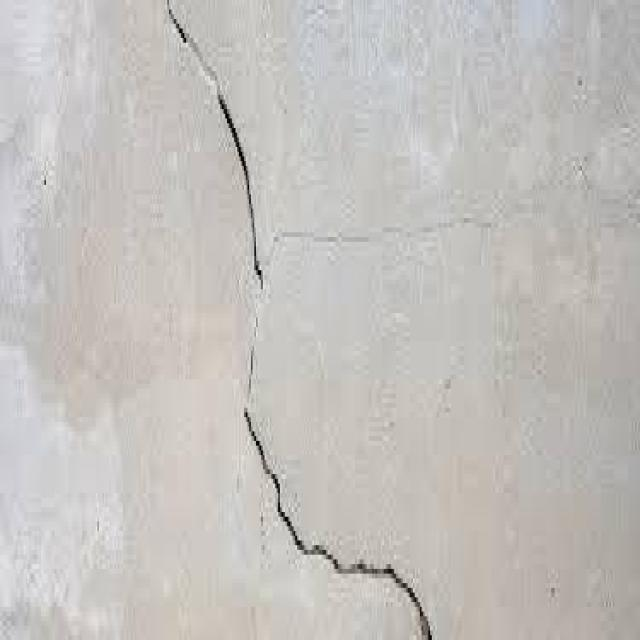Rachadura: (162, 0, 439, 635)
